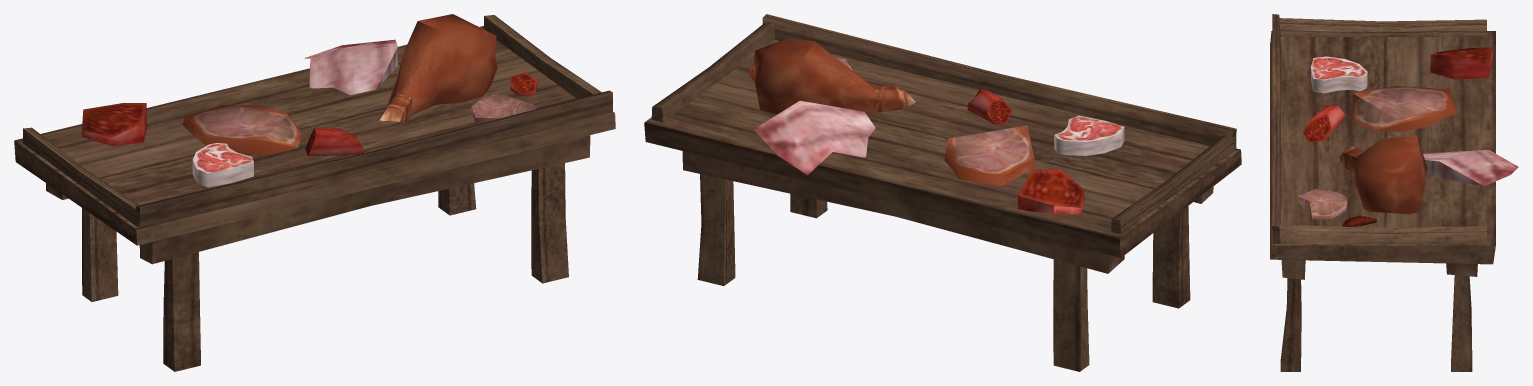
Rendered from shop_butcher_table.fbx.
3 views of the same model, side by side, from view 1: azimuth 30°, elevation 25°; view 2: azimuth 150°, elevation 25°; view 3: azimuth 270°, elevation 25° (orthographic). The views are drawn at different scales.
Visible parts, largest first — view 1: polySurface14, polySurface57, polySurface56, ham1, ham, polySurface77, polySurface55, ribs, polySurface19, sausage1_DUP1, polySurface60, polySurface59 (+5 smaller); view 2: polySurface14, polySurface57, ham1, polySurface76, ribs, ham, polySurface19, polySurface77, polySurface60, polySurface54, sausage1_DUP1, polySurface59 (+5 smaller); view 3: polySurface14, ham1, ham, polySurface60, polySurface59, ribs, polySurface57, polySurface54, steak, sausage1_DUP1, polySurface55, meat (+6 smaller).
Boxes of the visible parts, x1=… form: polySurface14: x1=14, y1=26, x2=615, y2=245; polySurface57: x1=136, y1=90, x2=612, y2=227; polySurface56: x1=139, y1=135, x2=590, y2=264; ham1: x1=379, y1=14, x2=497, y2=124; ham: x1=182, y1=105, x2=301, y2=156; polySurface77: x1=163, y1=252, x2=200, y2=371; polySurface55: x1=531, y1=163, x2=568, y2=283; ribs: x1=304, y1=39, x2=397, y2=94; polySurface19: x1=82, y1=208, x2=118, y2=301; sausage1_DUP1: x1=82, y1=103, x2=146, y2=146; polySurface60: x1=483, y1=15, x2=601, y2=98; polySurface59: x1=22, y1=127, x2=139, y2=226; polySurface14: x1=644, y1=40, x2=1241, y2=257; polySurface57: x1=762, y1=14, x2=1236, y2=149; ham1: x1=753, y1=39, x2=915, y2=114; polySurface76: x1=682, y1=151, x2=1124, y2=273; ribs: x1=753, y1=100, x2=875, y2=175; ham: x1=944, y1=125, x2=1035, y2=185; polySurface19: x1=1053, y1=260, x2=1089, y2=371; polySurface77: x1=1152, y1=206, x2=1190, y2=308; polySurface60: x1=651, y1=23, x2=774, y2=122; polySurface54: x1=698, y1=174, x2=735, y2=285; sausage1_DUP1: x1=1018, y1=169, x2=1084, y2=214; polySurface59: x1=1111, y1=135, x2=1234, y2=234; polySurface14: x1=1270, y1=31, x2=1495, y2=264; ham1: x1=1339, y1=135, x2=1426, y2=214; ham: x1=1350, y1=85, x2=1457, y2=131; polySurface60: x1=1276, y1=224, x2=1486, y2=244; polySurface59: x1=1279, y1=18, x2=1486, y2=36; ribs: x1=1423, y1=150, x2=1518, y2=186; polySurface57: x1=1272, y1=14, x2=1280, y2=244; polySurface54: x1=1451, y1=275, x2=1472, y2=371; steak: x1=1311, y1=56, x2=1367, y2=93; sausage1_DUP1: x1=1430, y1=47, x2=1493, y2=79; polySurface55: x1=1280, y1=278, x2=1301, y2=371; meat: x1=1298, y1=189, x2=1347, y2=219.
Size of the model in its own units: 944 by 415 by 463.
1 material, 1 textured.
